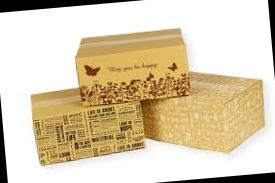Kertas: (141, 72, 264, 152), (75, 28, 189, 106), (31, 88, 144, 164)
